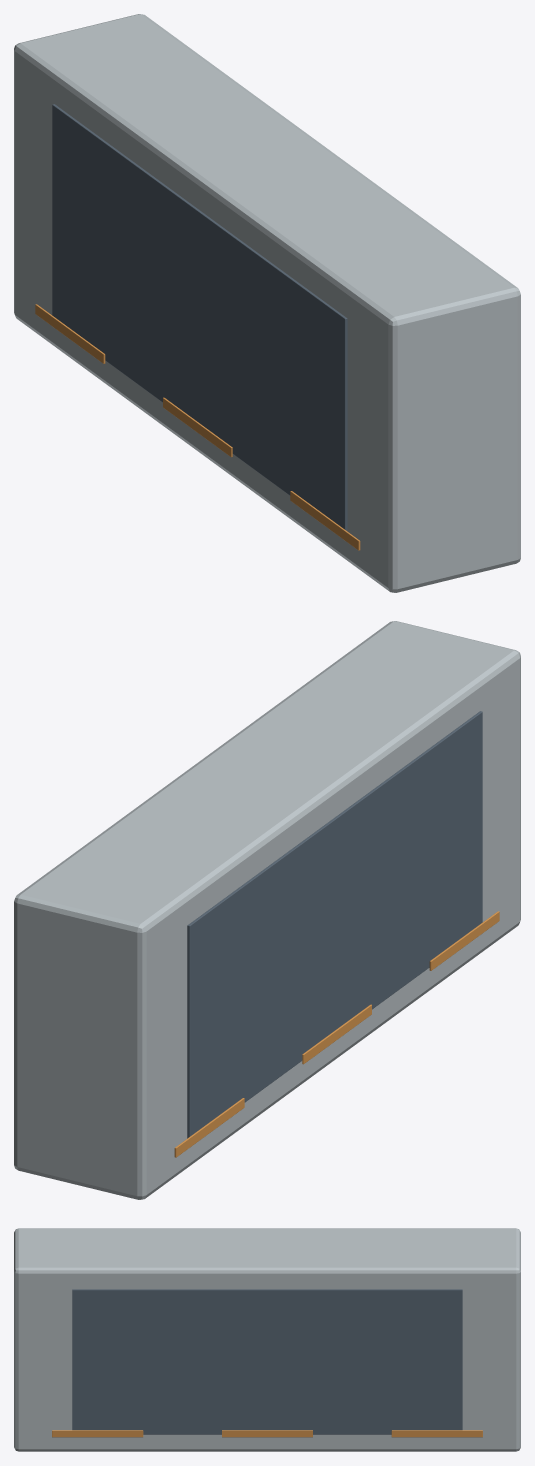
Rendered from maintenance-partition.glb.
3 renders of one model, top to bottom at view 1: azimuth 30°, elevation 25°; view 2: azimuth 150°, elevation 25°; view 3: azimuth 270°, elevation 25°, orthographic. The views are drawn at different scales.
Parts seen in each view (by area): view 1: Visual_MaintenancePartition_Shell, Visual_Merged_ZA_MaintenancePartition_Root_Graphite_Paint, Visual_Merged_ZA_MaintenancePartition_Root_Warning_Orange; view 2: Visual_MaintenancePartition_Shell, Visual_Merged_ZA_MaintenancePartition_Root_Graphite_Paint, Visual_Merged_ZA_MaintenancePartition_Root_Warning_Orange; view 3: Visual_MaintenancePartition_Shell, Visual_Merged_ZA_MaintenancePartition_Root_Graphite_Paint, Visual_Merged_ZA_MaintenancePartition_Root_Warning_Orange.
Part boxes in pixels (x1,y1,x2,y2): Visual_MaintenancePartition_Shell: (14, 14, 520, 592); Visual_Merged_ZA_MaintenancePartition_Root_Graphite_Paint: (52, 104, 347, 531); Visual_Merged_ZA_MaintenancePartition_Root_Warning_Orange: (35, 304, 360, 550); Visual_MaintenancePartition_Shell: (14, 621, 520, 1199); Visual_Merged_ZA_MaintenancePartition_Root_Graphite_Paint: (187, 711, 482, 1138); Visual_Merged_ZA_MaintenancePartition_Root_Warning_Orange: (174, 911, 499, 1157); Visual_MaintenancePartition_Shell: (14, 1228, 520, 1451); Visual_Merged_ZA_MaintenancePartition_Root_Graphite_Paint: (72, 1289, 462, 1434); Visual_Merged_ZA_MaintenancePartition_Root_Warning_Orange: (52, 1430, 482, 1437).
Bounding box in the file's own units: 2.14 × 4 × 10.
